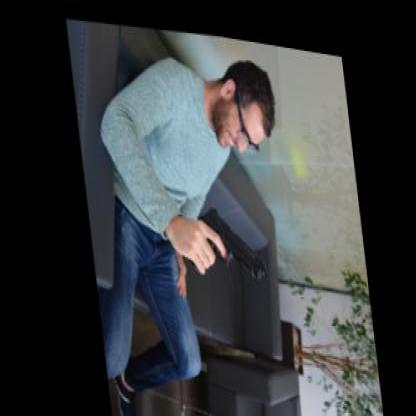pistol: (178, 191, 262, 272)
